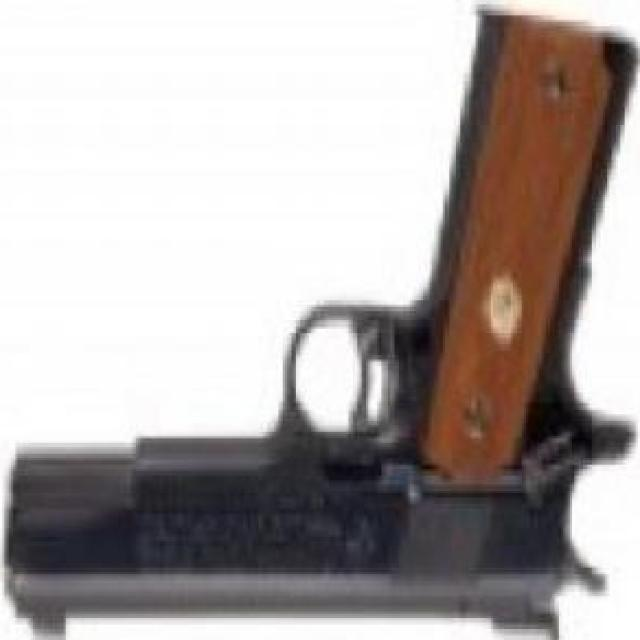pistol: (13, 15, 640, 629)
